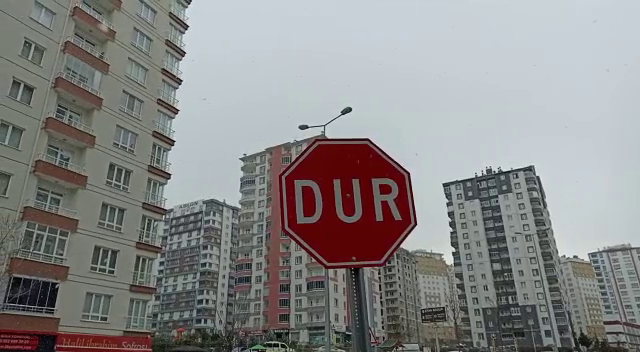stop: (275, 136, 421, 272)
